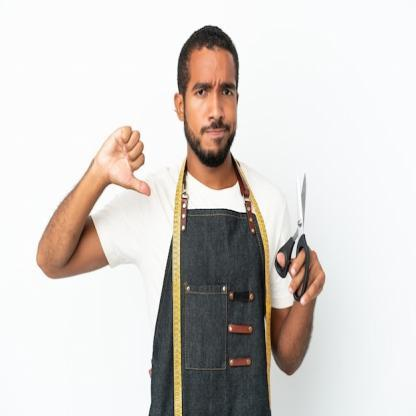thumb_down: (96, 118, 152, 201)
